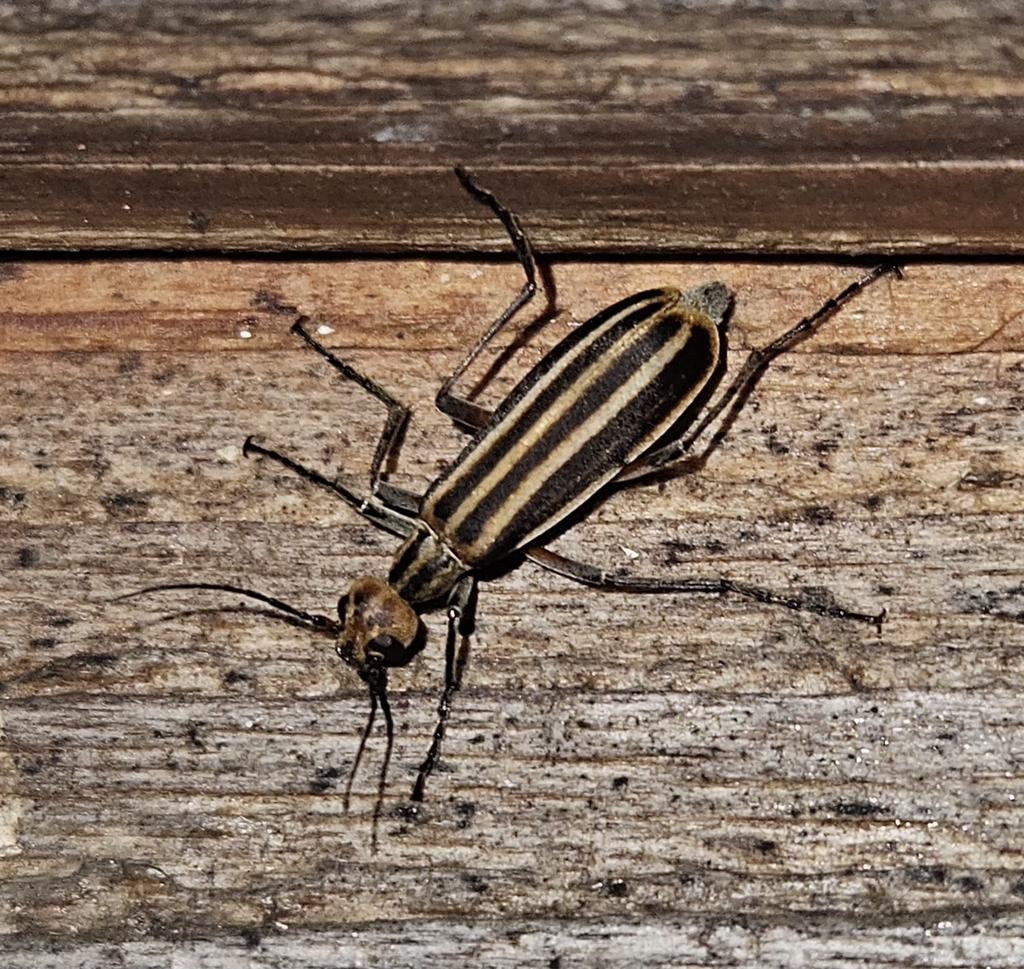blister_beetle: (15, 127, 1023, 917)
